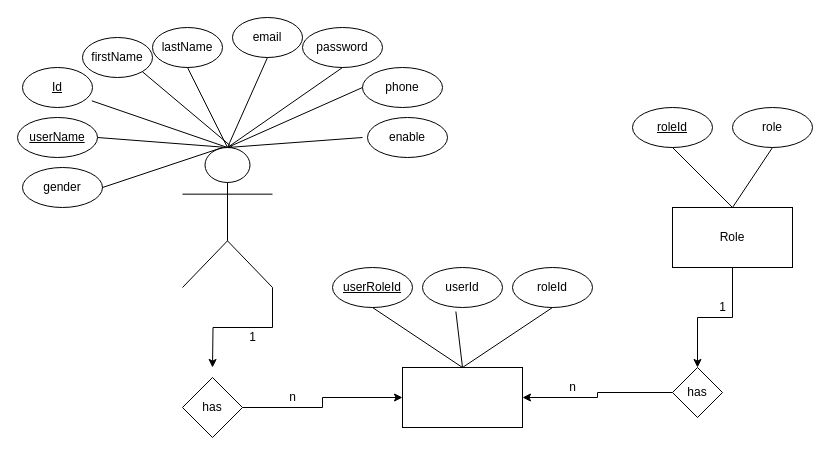
This 830x455 diagram has some shape labels left out. The shapes that lost their labels are listed below. From the top down, each one's centre as x and y in pixels, then its label:
the point at 227,217: User
the point at 462,397: User_Role
